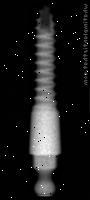Hiossen: (28, 3, 62, 195)
